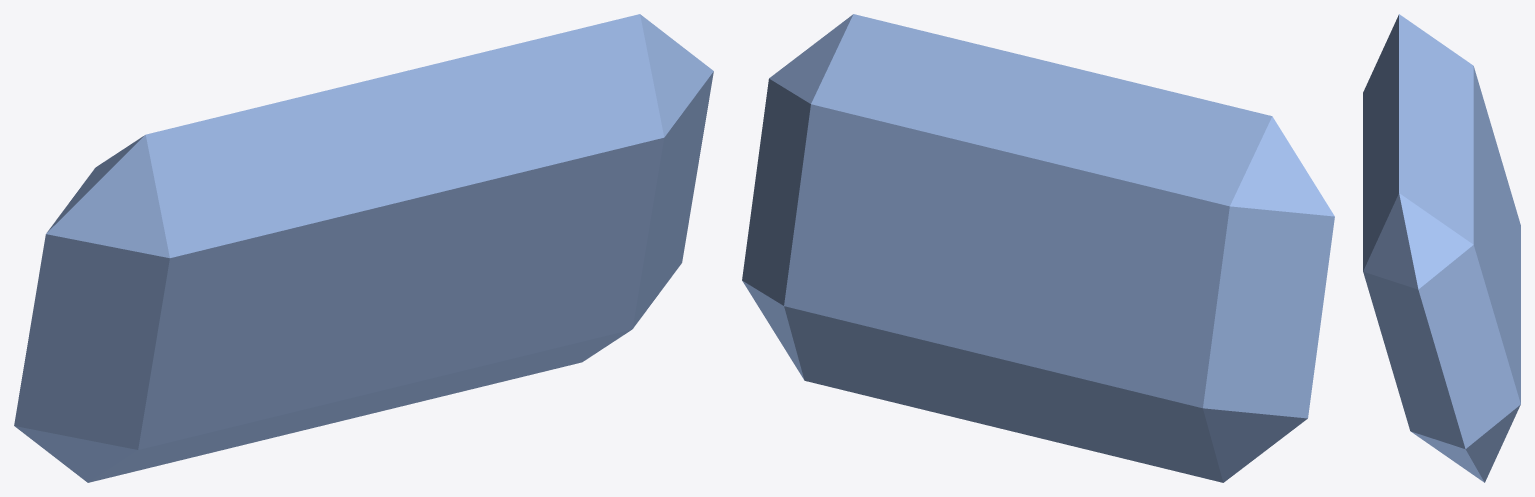
File: pillow-blue.glb
The picture shows the model from 3 angles, left to right: view 1: azimuth 30°, elevation 25°; view 2: azimuth 150°, elevation 25°; view 3: azimuth 270°, elevation 25°; orthographic projection. The views are drawn at different scales.
Parts seen in each view (by area): view 1: Mesh0; view 2: Mesh0; view 3: Mesh0.
Boxes of the visible parts, x1,y1,x2,y2 form: Mesh0: (14, 14, 713, 482); Mesh0: (742, 14, 1334, 482); Mesh0: (1363, 14, 1520, 482).
Bounding box in the file's own units: 0.23 × 0.1285 × 0.0634.
